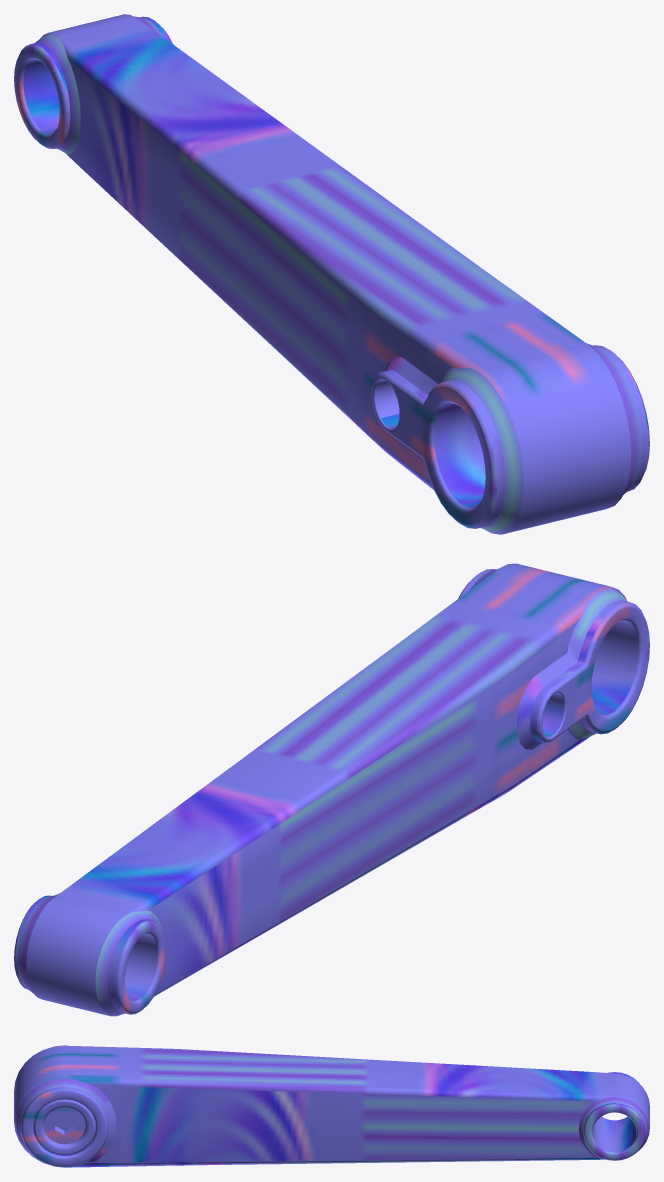
Rendered from BMX_CrankArm_Destruction_Rat Rod 175mm.fbx.
The picture shows the model from 3 angles, top to bottom: view 1: azimuth 30°, elevation 25°; view 2: azimuth 150°, elevation 25°; view 3: azimuth 270°, elevation 25°; orthographic projection. The views are drawn at different scales.
Visible parts, largest first — view 1: BMX_CrankArm_Destruction_Rat_Rod175mm; view 2: BMX_CrankArm_Destruction_Rat_Rod175mm; view 3: BMX_CrankArm_Destruction_Rat_Rod175mm.
Part boxes in pixels (x1,y1,x2,y2): BMX_CrankArm_Destruction_Rat_Rod175mm: (14,14,649,534); BMX_CrankArm_Destruction_Rat_Rod175mm: (14,563,649,1016); BMX_CrankArm_Destruction_Rat_Rod175mm: (14,1045,649,1167).
Size of the model in its own units: 3.71 by 3.22 by 20.28.
Materials: 1 (1 with a texture image).
